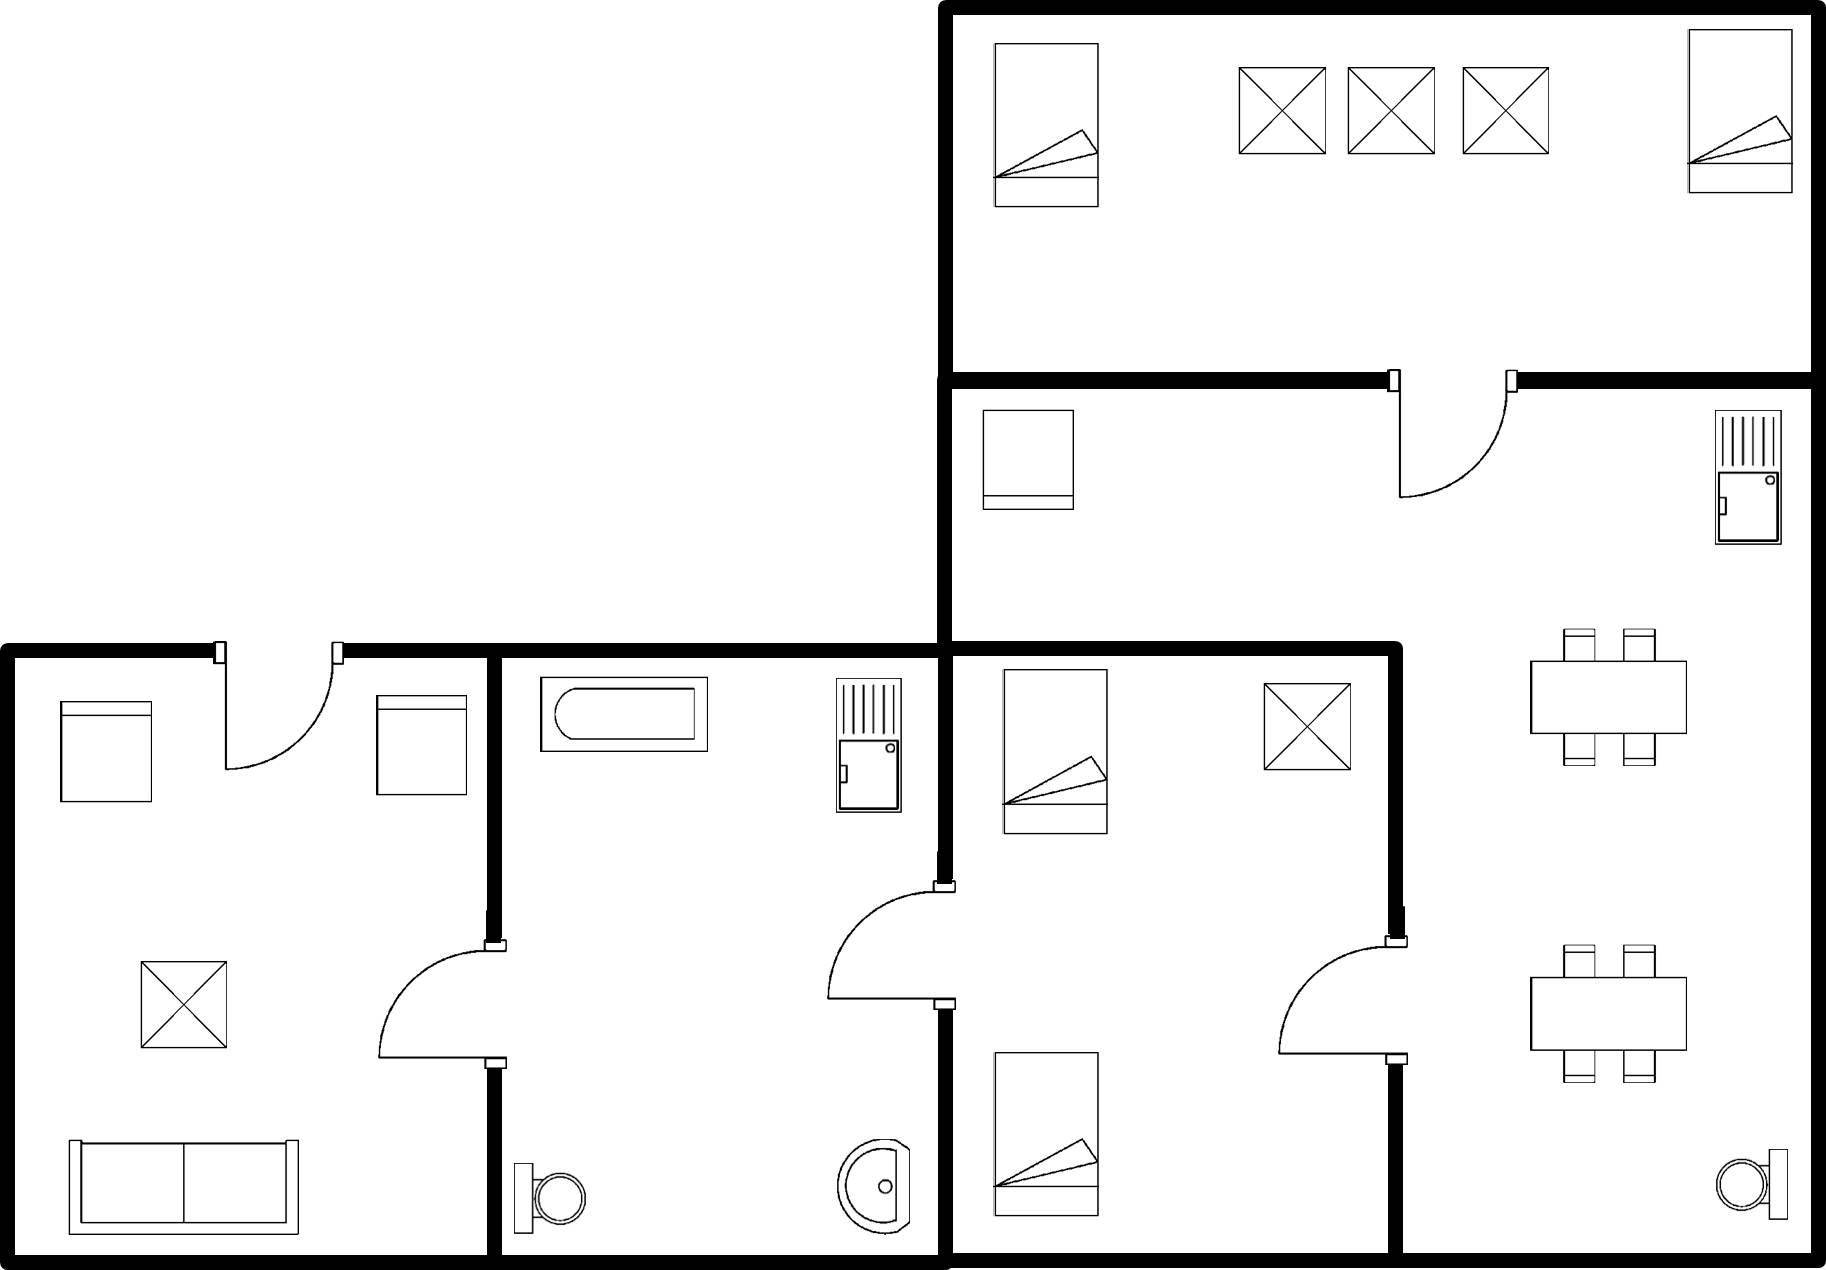bed: (993, 661, 1116, 845), (987, 1041, 1109, 1226), (982, 36, 1107, 215), (1678, 19, 1800, 201)
dining_table: (1517, 934, 1697, 1094), (1519, 616, 1694, 774)
sink: (1704, 397, 1795, 562), (824, 668, 910, 824)
sofa: (54, 1128, 312, 1244)
toilet: (1703, 1134, 1797, 1237), (504, 1146, 592, 1245)
tub: (530, 668, 720, 763)
